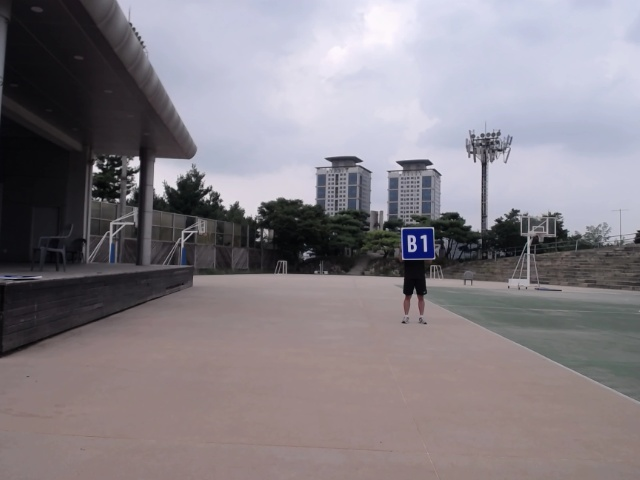delivery_b1: (401, 227, 435, 260)
